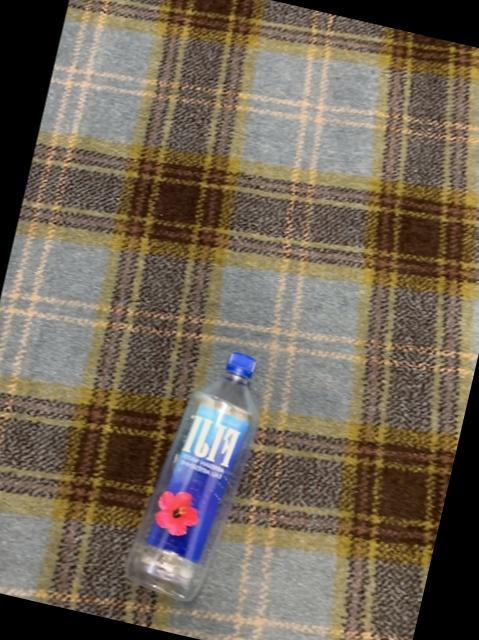plastic: (126, 351, 258, 598)
